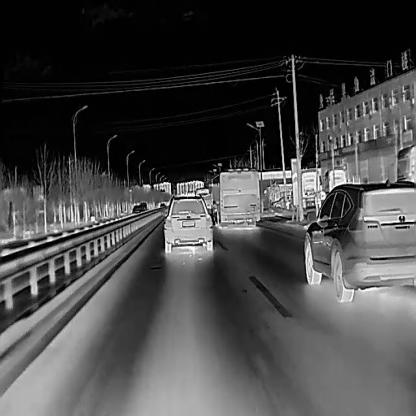bus: (209, 166, 259, 226)
car: (303, 176, 415, 301), (162, 192, 212, 252), (273, 194, 294, 209), (131, 203, 143, 217)
truck: (301, 170, 324, 209), (397, 144, 415, 184), (324, 168, 346, 192)
